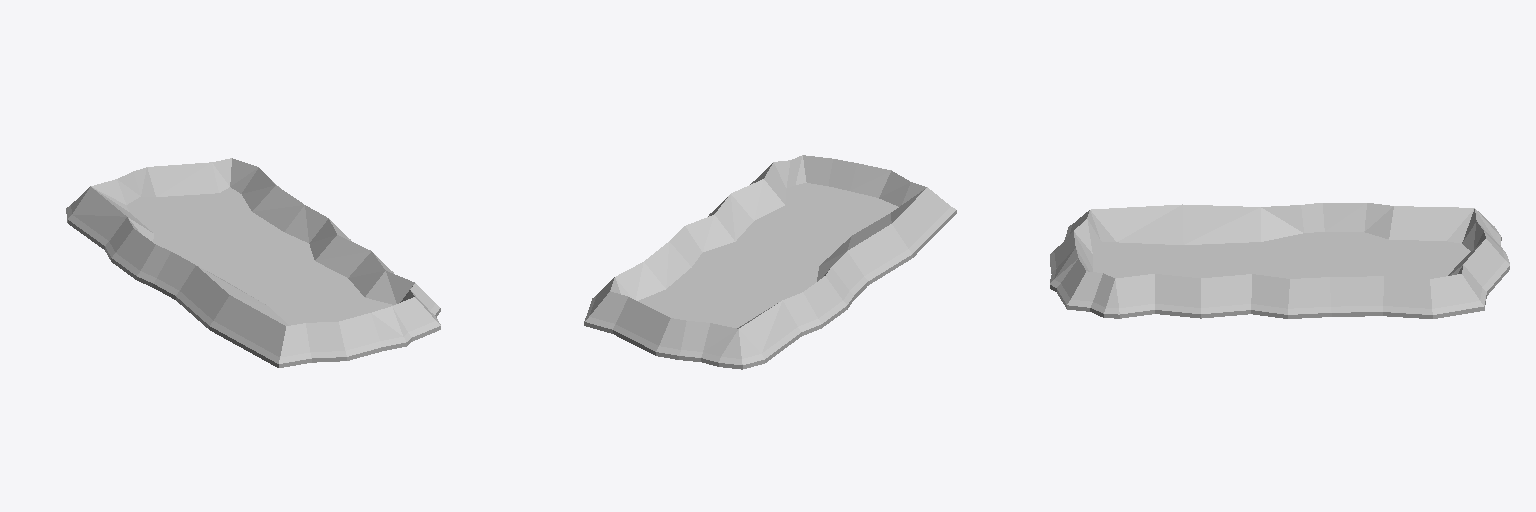
Rendered from cf_ta_dep.obj.
3 views of the same model, side by side, from view 1: azimuth 30°, elevation 25°; view 2: azimuth 150°, elevation 25°; view 3: azimuth 270°, elevation 25° (orthographic).
Visible parts, largest first — view 1: depression_Plane.002; view 2: depression_Plane.002; view 3: depression_Plane.002.
Boxes of the visible parts, x1,y1,x2,y2 form: depression_Plane.002: [66, 158, 440, 367]; depression_Plane.002: [584, 155, 956, 369]; depression_Plane.002: [1050, 203, 1509, 318].
Size of the model in its own units: 9.89 by 1.42 by 19.88.